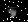person: (8, 5, 18, 18)
